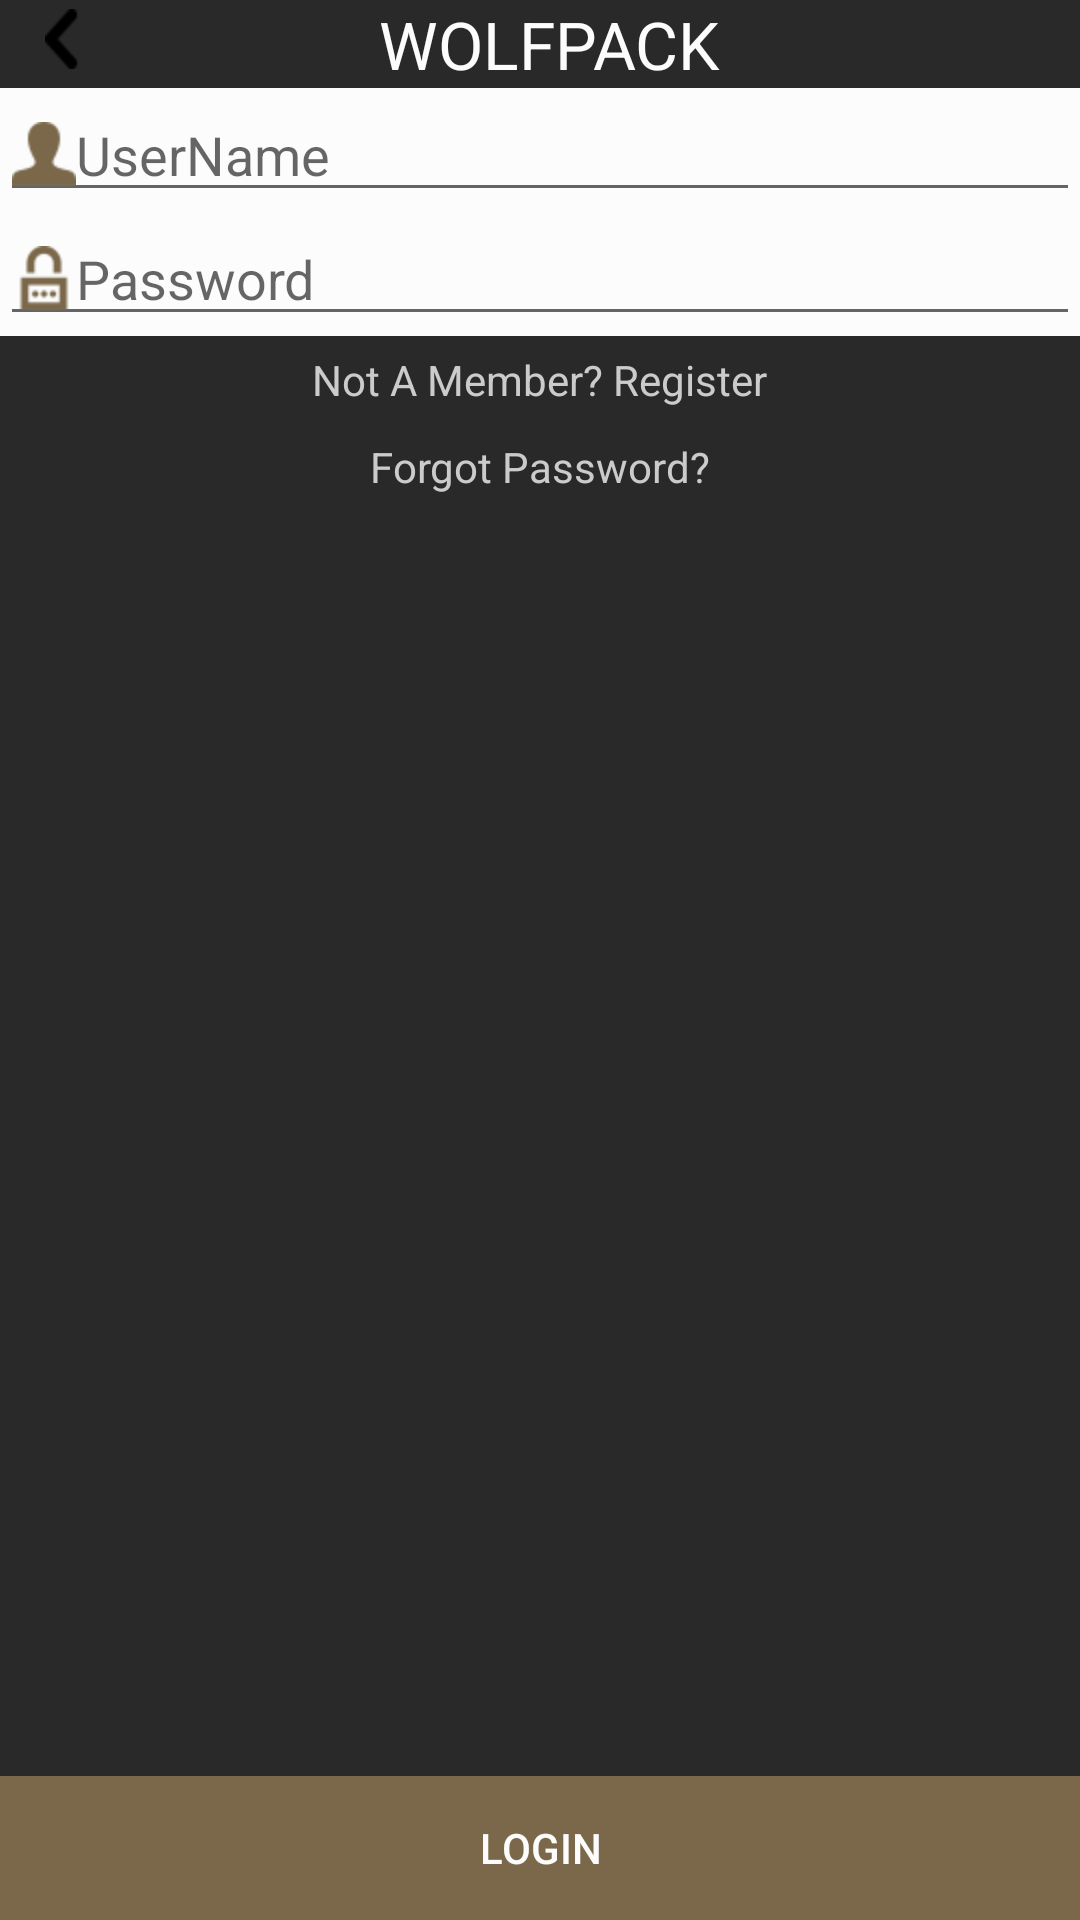

Icons on this 1080x1920 Android screen, each with the point to tap as [x,y]:
wolfpack back arrow: [61,39]
